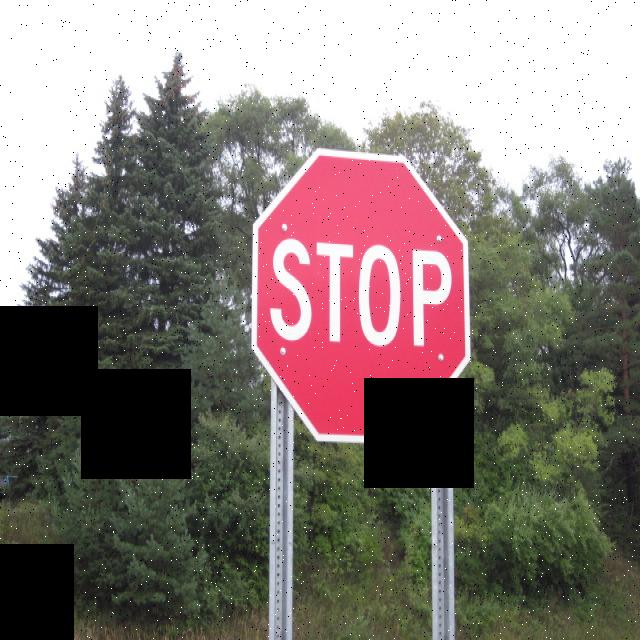stop: (249, 142, 475, 445)
